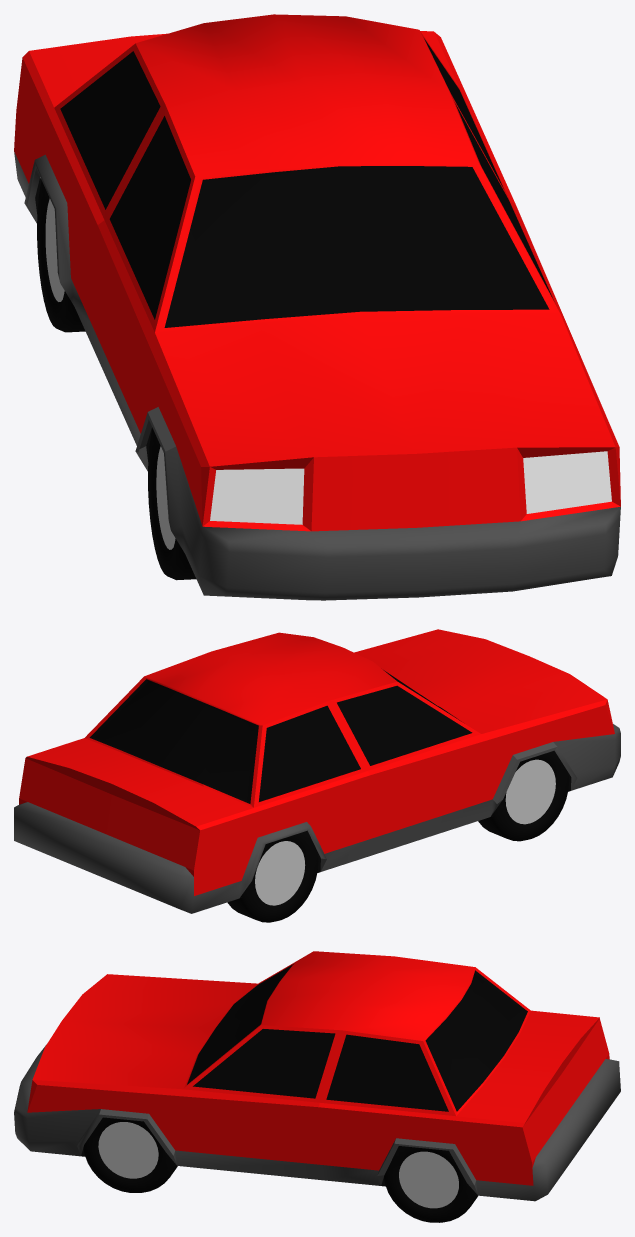
File: Car.glb
3 views of the same model, one above another, from view 1: azimuth 30°, elevation 25°; view 2: azimuth 150°, elevation 25°; view 3: azimuth 270°, elevation 25° (orthographic). The views are drawn at different scales.
Visible parts, largest first — view 1: Car; view 2: Car; view 3: Car.
Part boxes in pixels (left/top/right/bottom): Car: left=14, top=14, right=620, bottom=600; Car: left=14, top=629, right=620, bottom=922; Car: left=14, top=951, right=620, bottom=1222.
Size of the model in its own units: 3.25 by 1.71 by 4.9.
